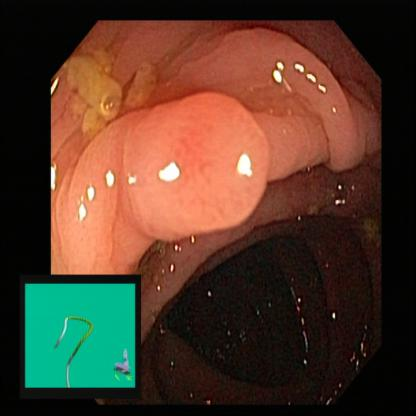Labels: (25, 274, 133, 388)
Polyps: (63, 100, 262, 250)
